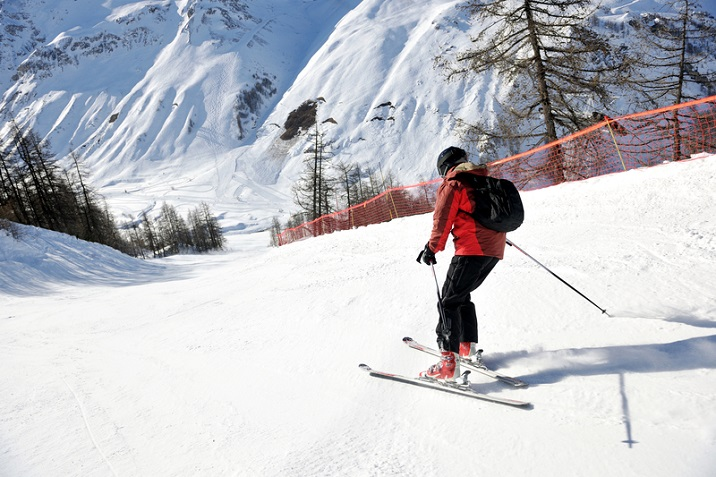skier: (359, 147, 615, 409)
